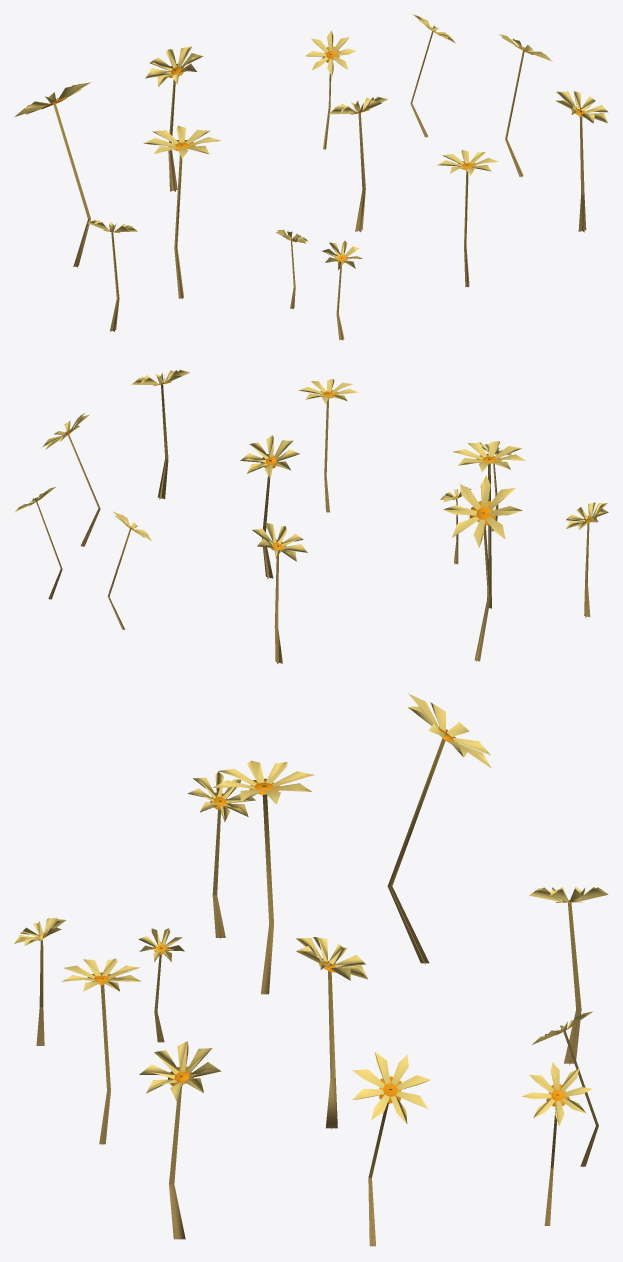
File: flower_daisy_yellow_low.glb
3 views of the same model, one above another, from view 1: azimuth 30°, elevation 25°; view 2: azimuth 150°, elevation 25°; view 3: azimuth 270°, elevation 25° (orthographic). The views are drawn at different scales.
Parts seen in each view (by area): view 1: Flower 4_4_A; view 2: Flower 4_4_A; view 3: Flower 4_4_A.
Boxes of the visible parts, x1,y1,x2,y2 form: Flower 4_4_A: (15, 14, 608, 340); Flower 4_4_A: (14, 369, 608, 664); Flower 4_4_A: (14, 693, 608, 1246).
Size of the model in its own units: 0.6073 by 0.2104 by 0.4454.
1 material, 1 textured.
